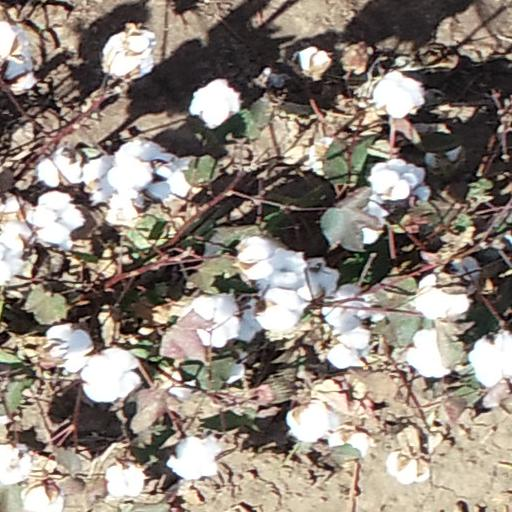Boll: (82, 349, 141, 400), (27, 192, 83, 244), (111, 140, 166, 192), (372, 70, 426, 118), (168, 437, 222, 479), (470, 329, 512, 383), (190, 297, 237, 345), (416, 278, 471, 319), (189, 79, 238, 125), (157, 152, 201, 202), (406, 330, 451, 376), (256, 288, 305, 330), (46, 321, 87, 371), (370, 160, 425, 197), (236, 235, 274, 284), (325, 286, 369, 326), (320, 329, 366, 367), (38, 146, 80, 187), (77, 151, 113, 198), (2, 22, 31, 79), (269, 245, 307, 287), (288, 402, 329, 439), (302, 258, 339, 295), (387, 452, 429, 483), (109, 192, 148, 224), (107, 463, 144, 496), (290, 43, 326, 75), (25, 483, 64, 512), (2, 445, 30, 485), (332, 428, 369, 457), (3, 223, 35, 253), (1, 245, 24, 283)
